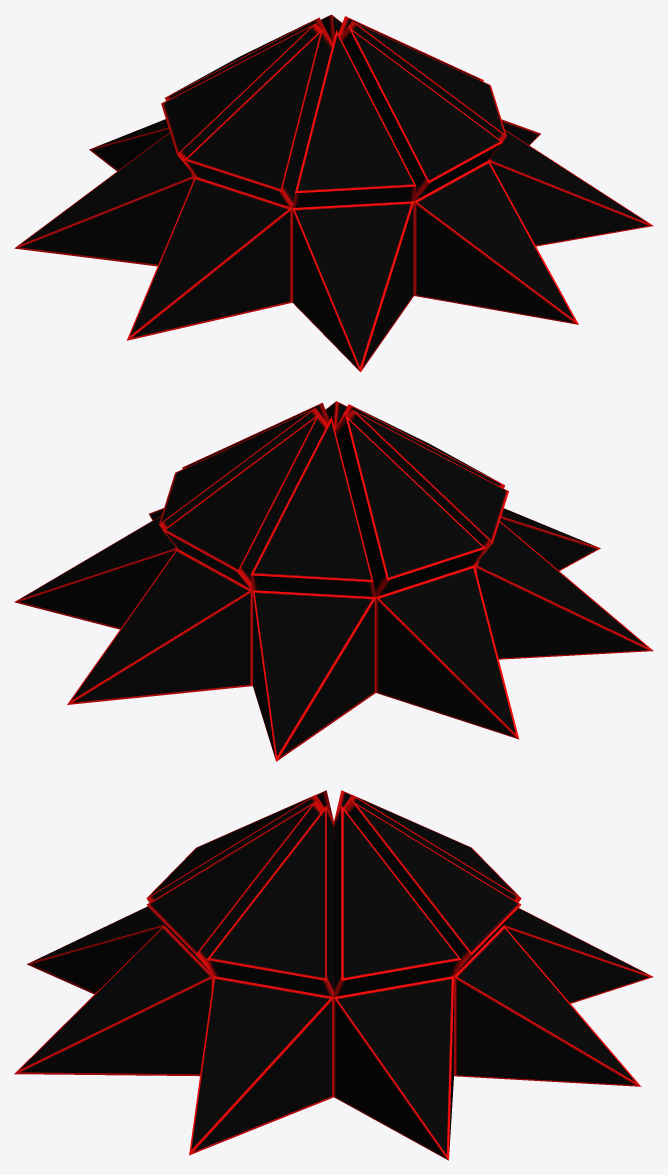
Rendered from Egger.fbx.
3 views of the same model, one above another, from view 1: azimuth 30°, elevation 25°; view 2: azimuth 150°, elevation 25°; view 3: azimuth 270°, elevation 25° (orthographic). The views are drawn at different scales.
Parts seen in each view (by area): view 1: pCylinder1; view 2: pCylinder1; view 3: pCylinder1.
Part boxes in pixels (box(x1,y1,x2,y2)): pCylinder1: box(14, 14, 653, 372); pCylinder1: box(14, 401, 653, 761); pCylinder1: box(14, 790, 653, 1160).
Bounding box in the file's own units: 3.77 × 1.48 × 3.77.
Materials: 1 (1 with a texture image).
